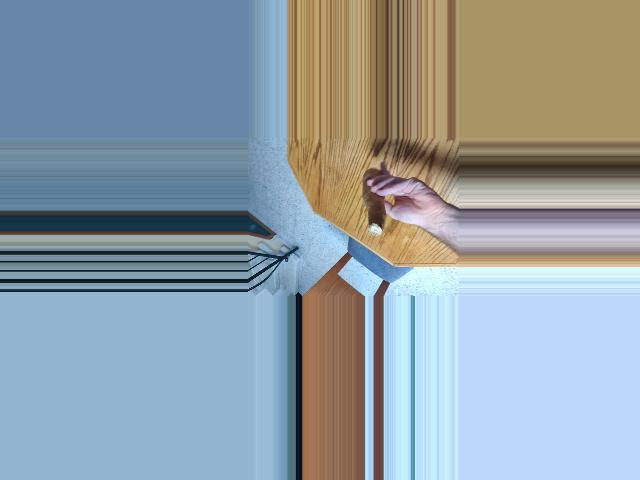sweet_potato: (359, 174, 390, 230)
